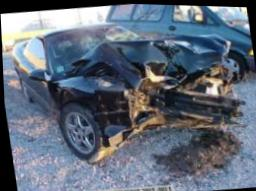Bonnet: (76, 34, 216, 92)
Bumper: (123, 74, 243, 141)
